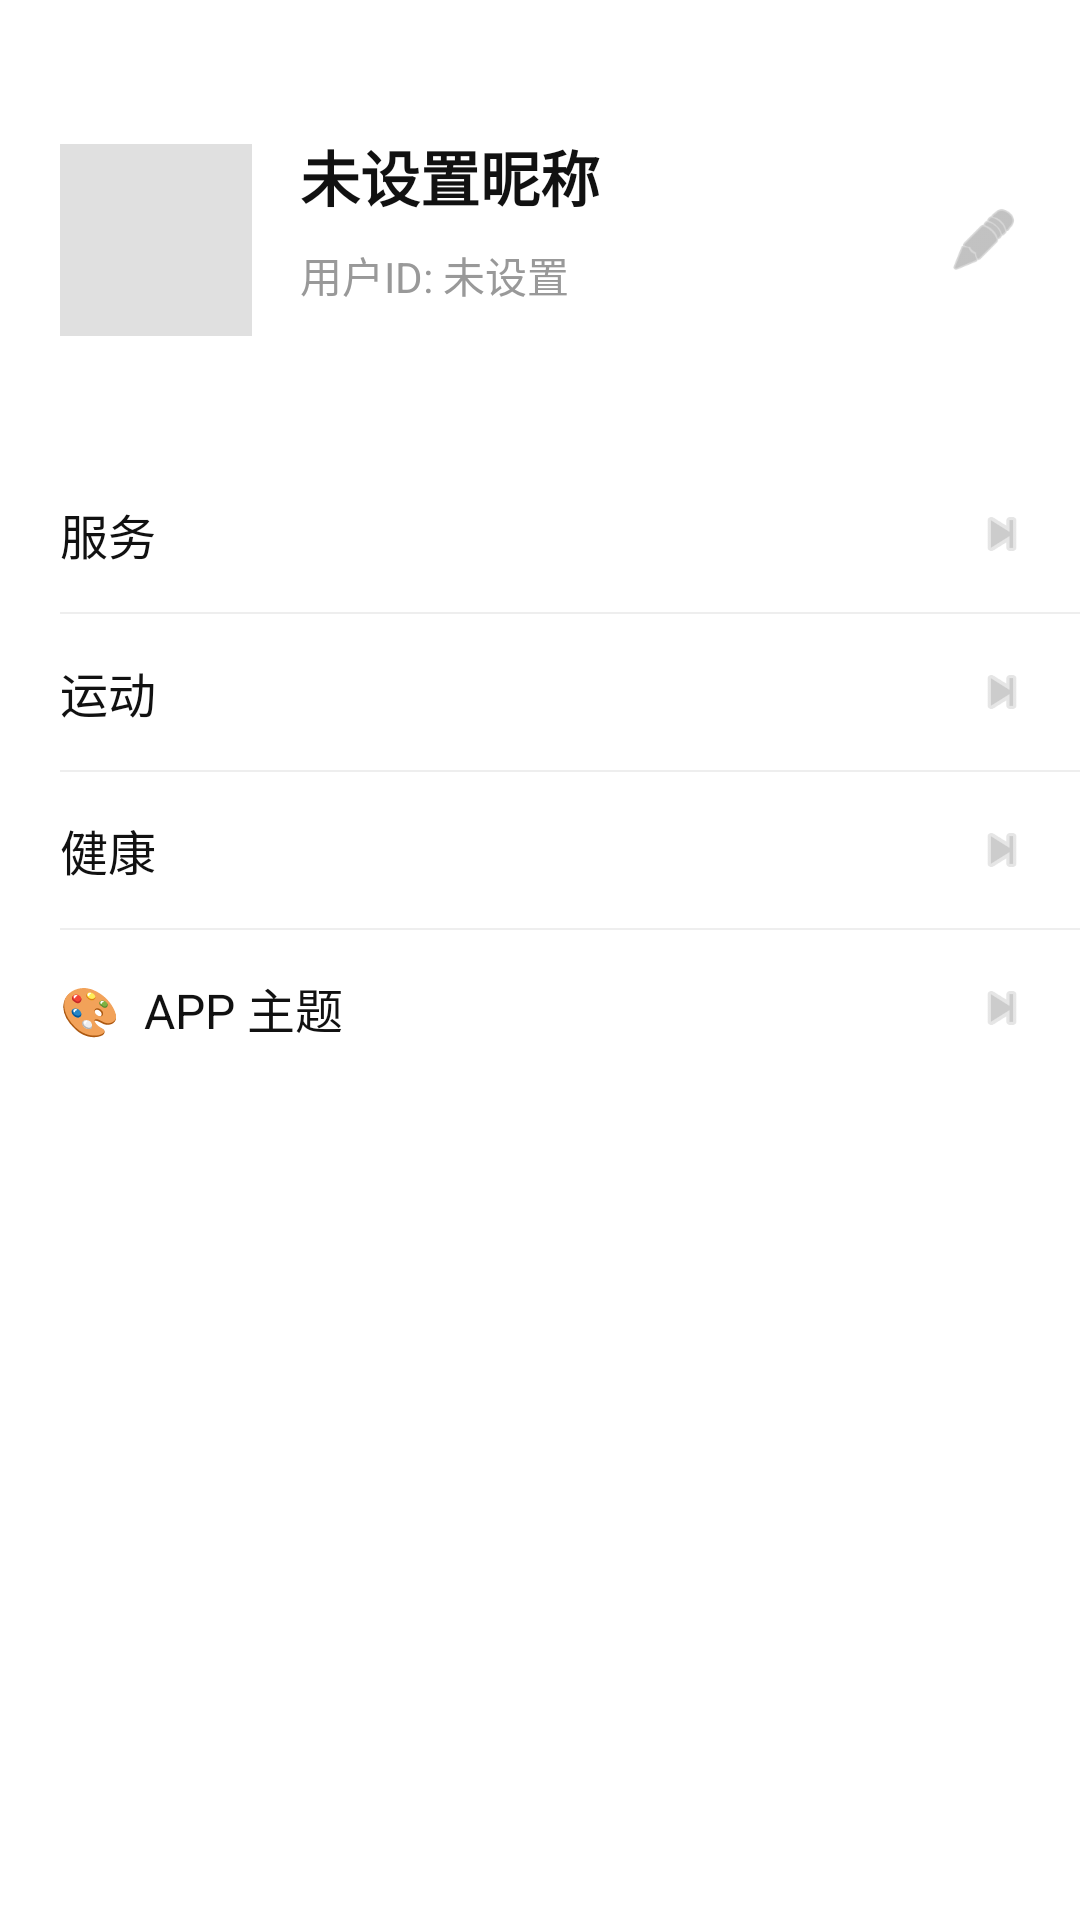

Where icons sit on this 1080w x 1920h app screen, as (x1, y1, x2, y2):
edit: (954, 209, 1014, 270)
next: (988, 517, 1016, 551), (988, 675, 1016, 709), (988, 833, 1016, 867), (988, 991, 1016, 1025)
